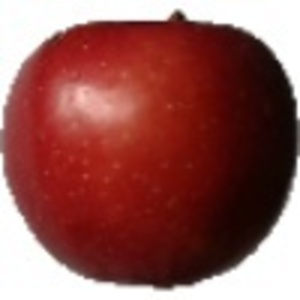maçã braeburn: (1, 11, 299, 289)
